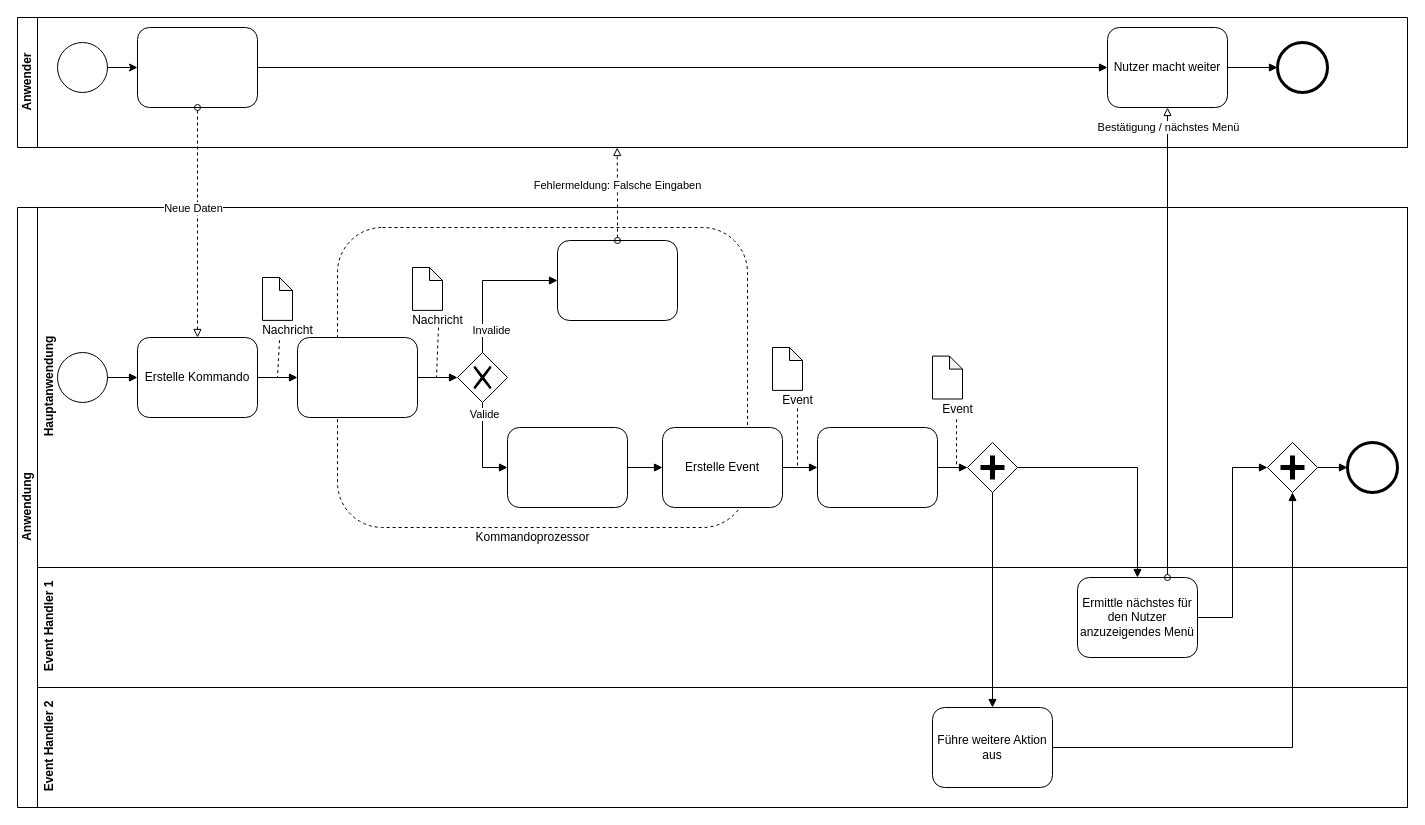
This 1425x825 diagram has some shape labels left out. The shapes that lost their labels are listed below. From the top down, each one's centre as x and y in pixels, then its label:
(x=197, y=67): Gibt zu ändernde Daten ein und bestätigt
(x=617, y=280): Verwerfe Änderugnen
(x=357, y=377): Validiere Eingaben
(x=567, y=467): Führe Änderungen aus
(x=877, y=467): Ermittle Event Empfänger
